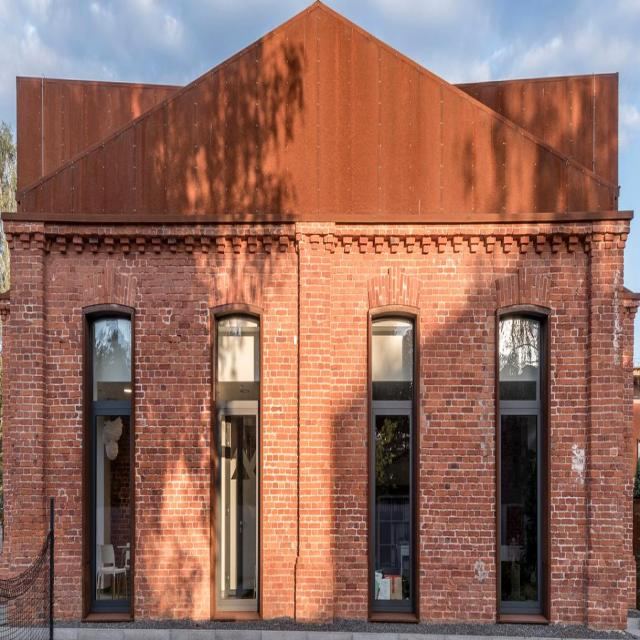wall: (0, 0, 639, 627)
windows: (86, 300, 136, 612), (214, 306, 263, 604), (371, 310, 420, 608), (501, 310, 548, 604)
